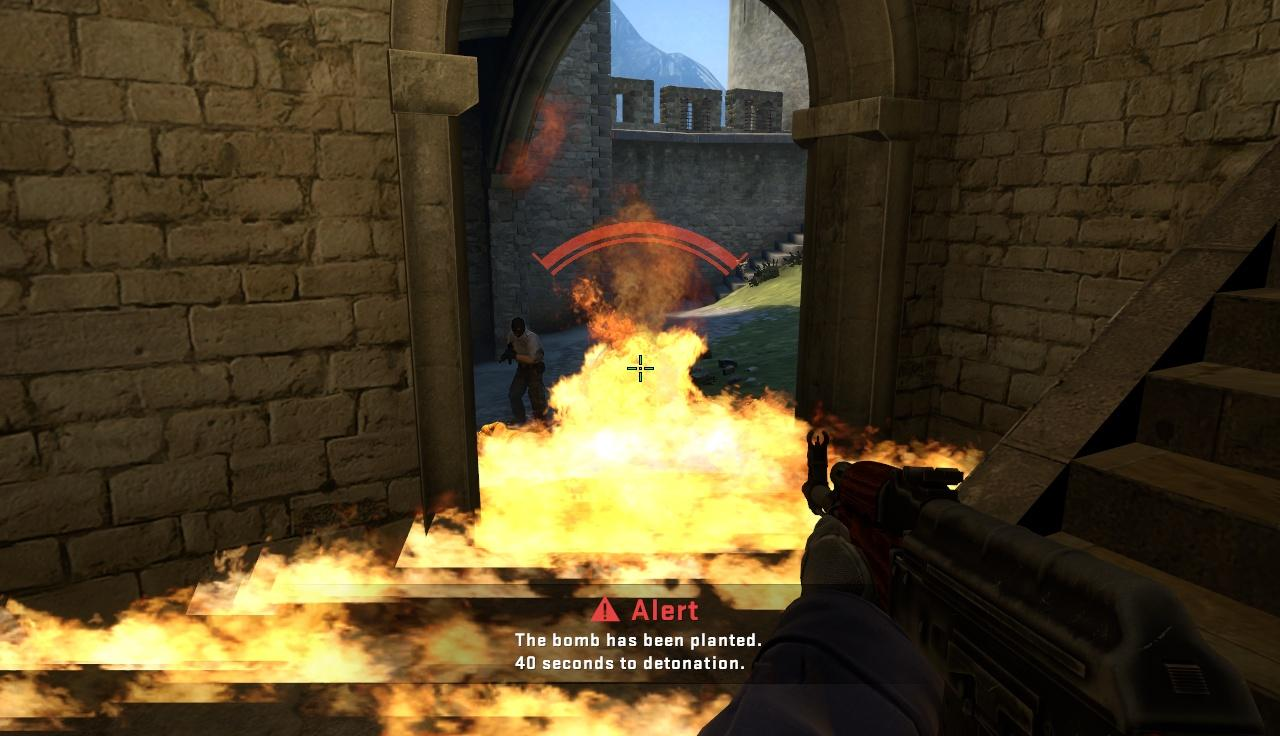rifle: (803, 425, 1280, 732)
tt: (509, 316, 552, 423)
tthead: (511, 318, 525, 337)
